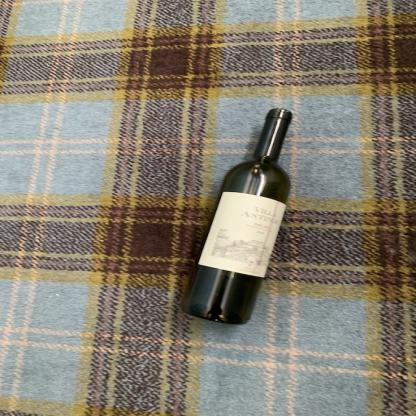trash: (176, 106, 296, 326)
